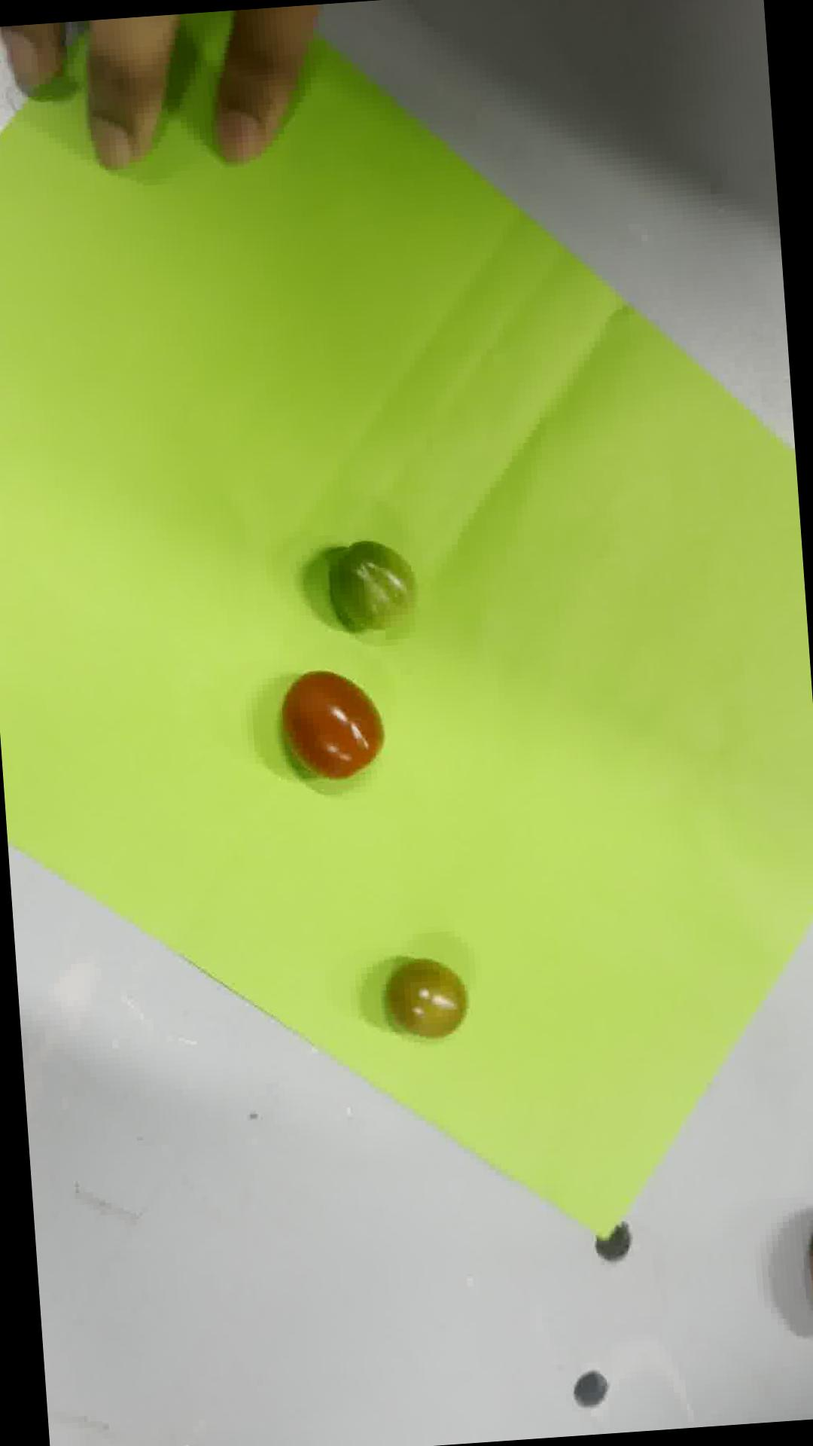green_cherry_tomato: (329, 541, 415, 630)
red_cherry_tomato: (282, 671, 383, 778)
yellow_cherry_tomato: (385, 959, 467, 1038)
